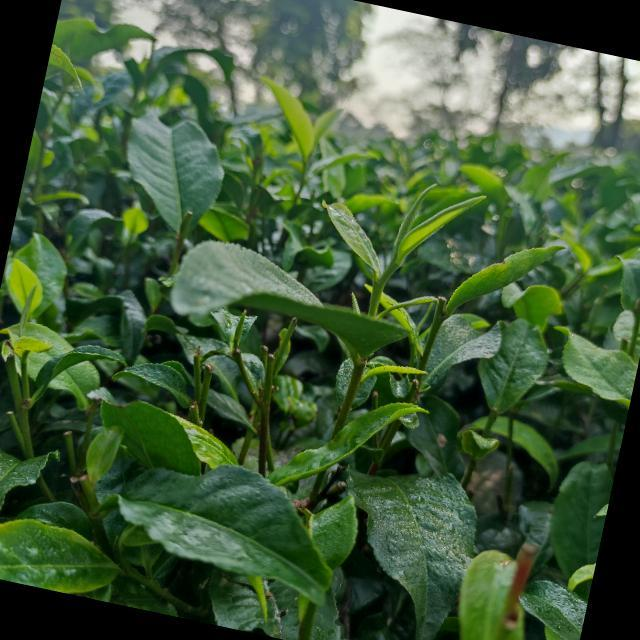Stem: (374, 283, 382, 294)
